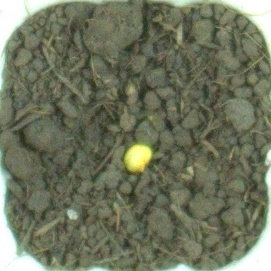pepper seed: (43, 55, 199, 230)
